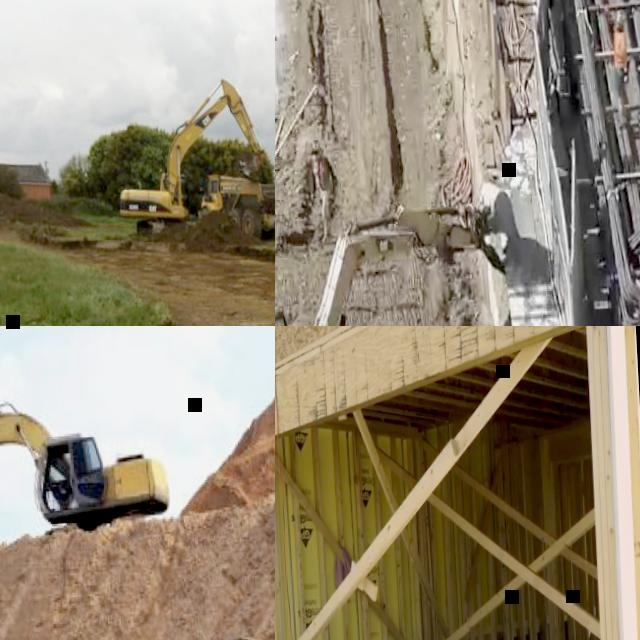Hardhat: (616, 12, 625, 24)
Person: (310, 142, 339, 241), (608, 9, 630, 107)
Safety Vest: (613, 28, 627, 64)
machinery: (275, 175, 532, 326), (0, 389, 173, 561), (112, 72, 275, 250)
vehicle: (557, 0, 640, 326)
